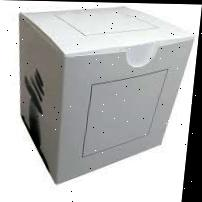cube: (5, 4, 197, 182)
